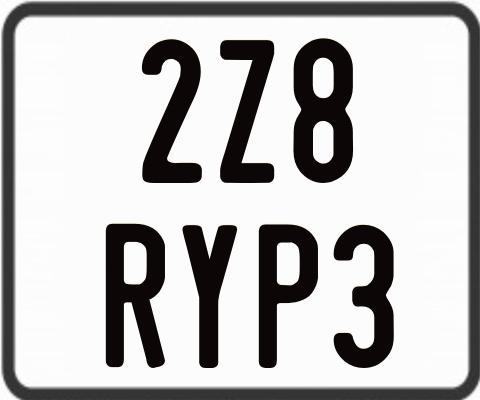2: (141, 37, 201, 187)
3: (333, 222, 394, 366)
8: (292, 38, 356, 183)
P: (259, 222, 318, 369)
R: (105, 224, 166, 371)
Y: (182, 222, 241, 369)
Z: (219, 38, 275, 185)
